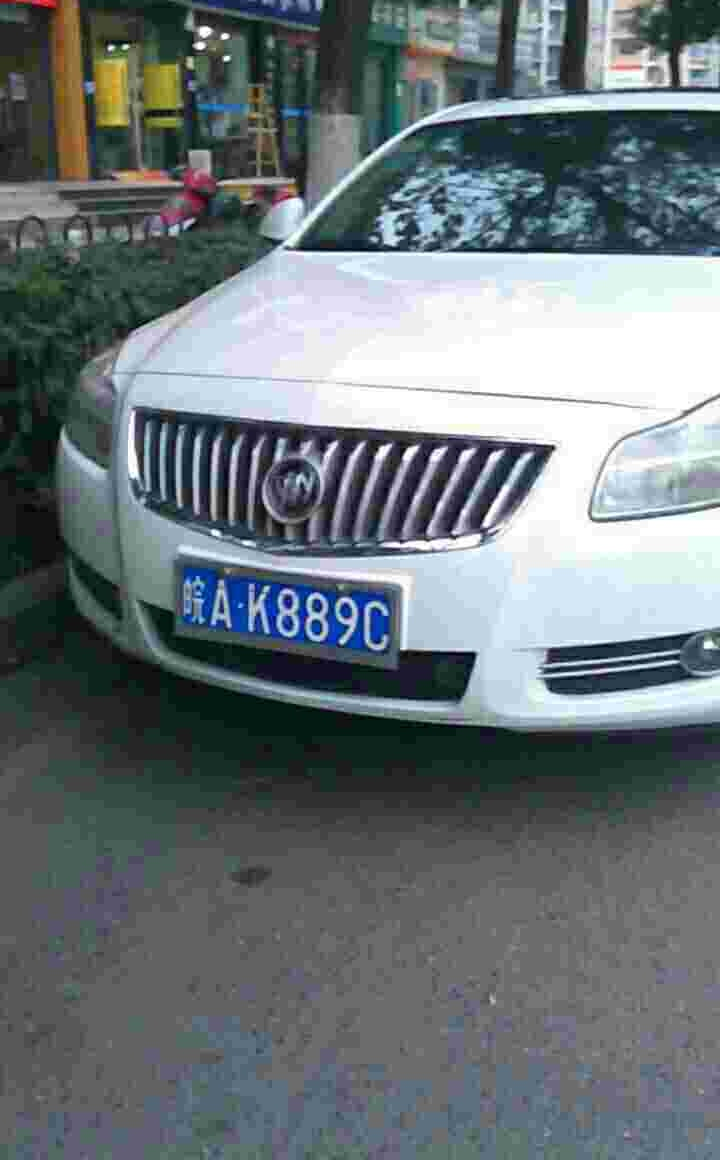license_plate: (174, 568, 395, 658)
